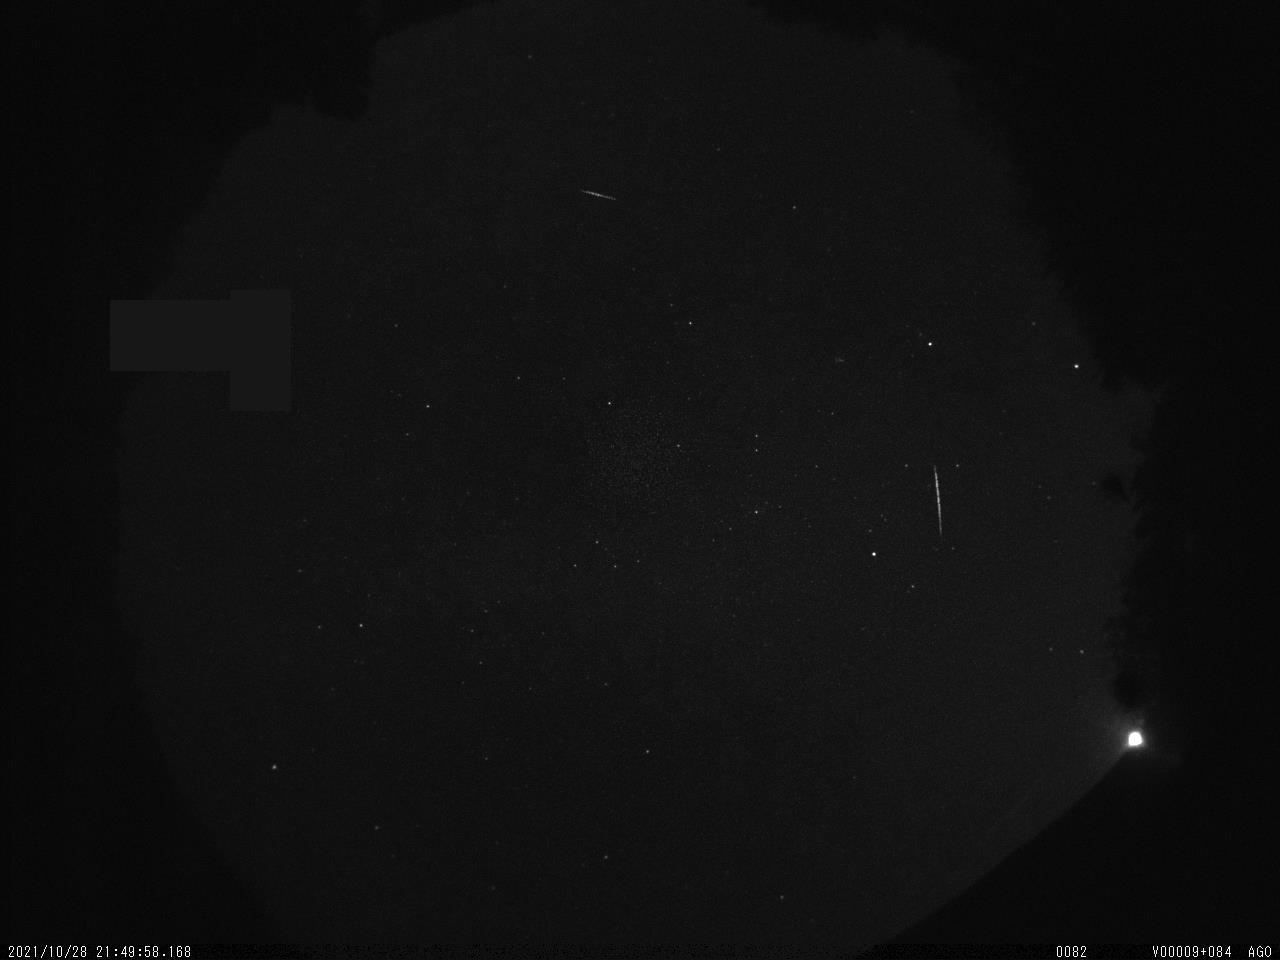meteor: (918, 454, 970, 553), (557, 174, 633, 220)
